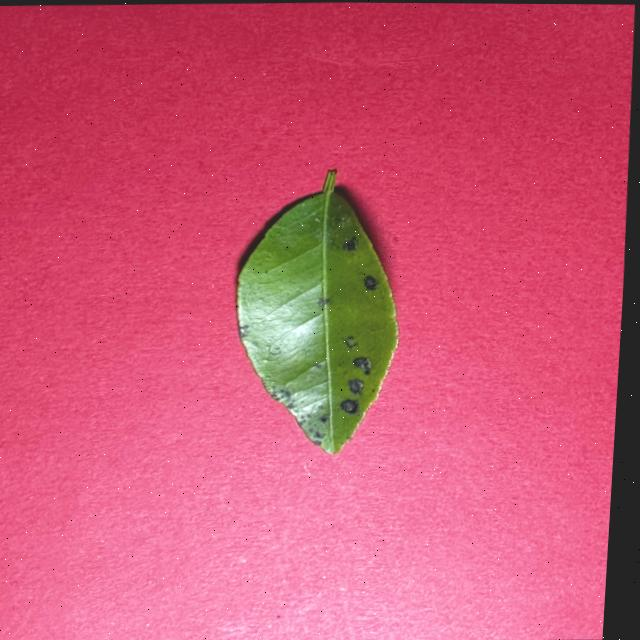sooty_mold: (237, 171, 397, 453)
